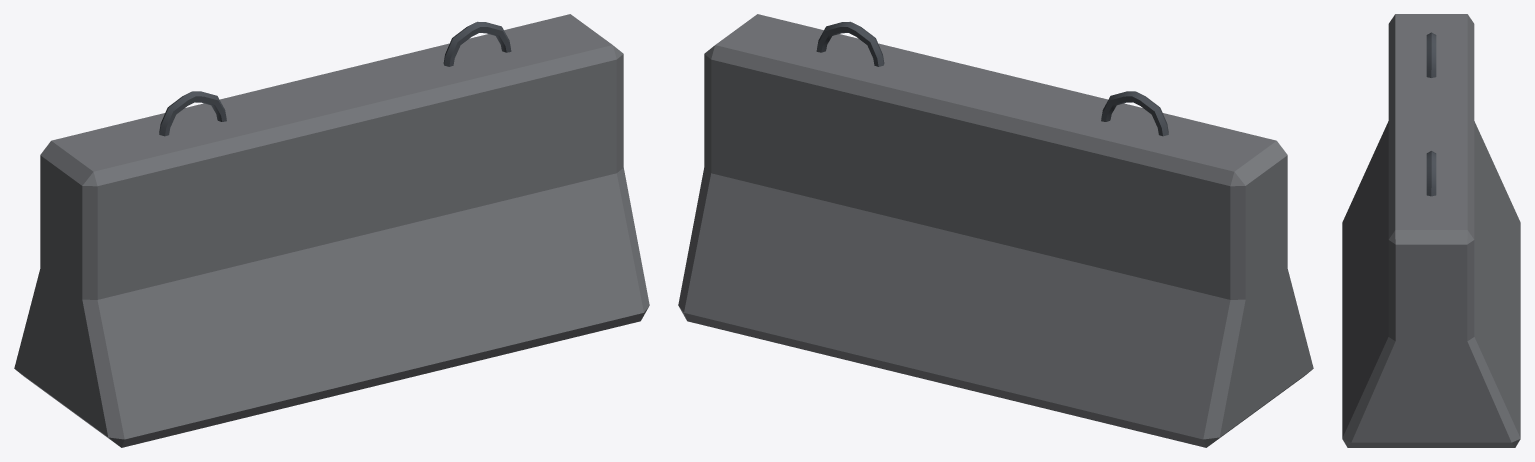
File: Traffic Barrier_1.fbx
3 renders of one model, left to right at view 1: azimuth 30°, elevation 25°; view 2: azimuth 150°, elevation 25°; view 3: azimuth 270°, elevation 25°, orthographic. The views are drawn at different scales.
Parts seen in each view (by area): view 1: Traffic Barrier_1; view 2: Traffic Barrier_1; view 3: Traffic Barrier_1.
Part boxes in pixels (x1,y1,x2,y2): Traffic Barrier_1: (14, 14, 649, 447); Traffic Barrier_1: (678, 14, 1313, 447); Traffic Barrier_1: (1342, 14, 1520, 447).
Size of the model in its own units: 298 by 153 by 99.71.
